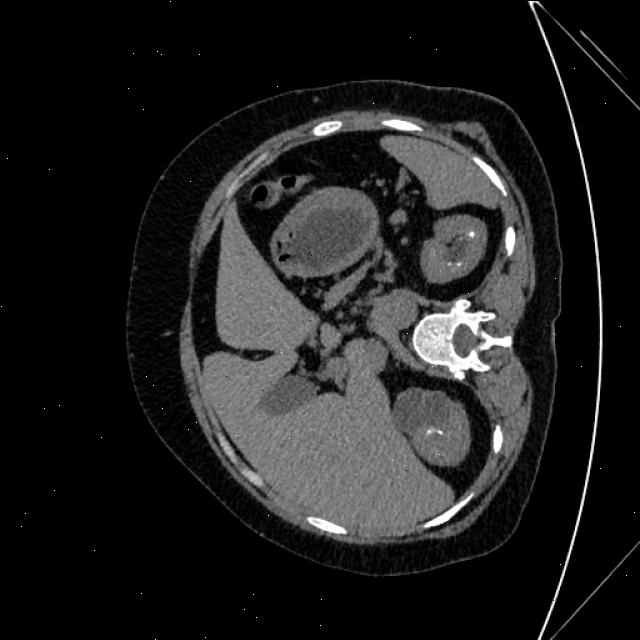kidneystone: (468, 220, 482, 239)
